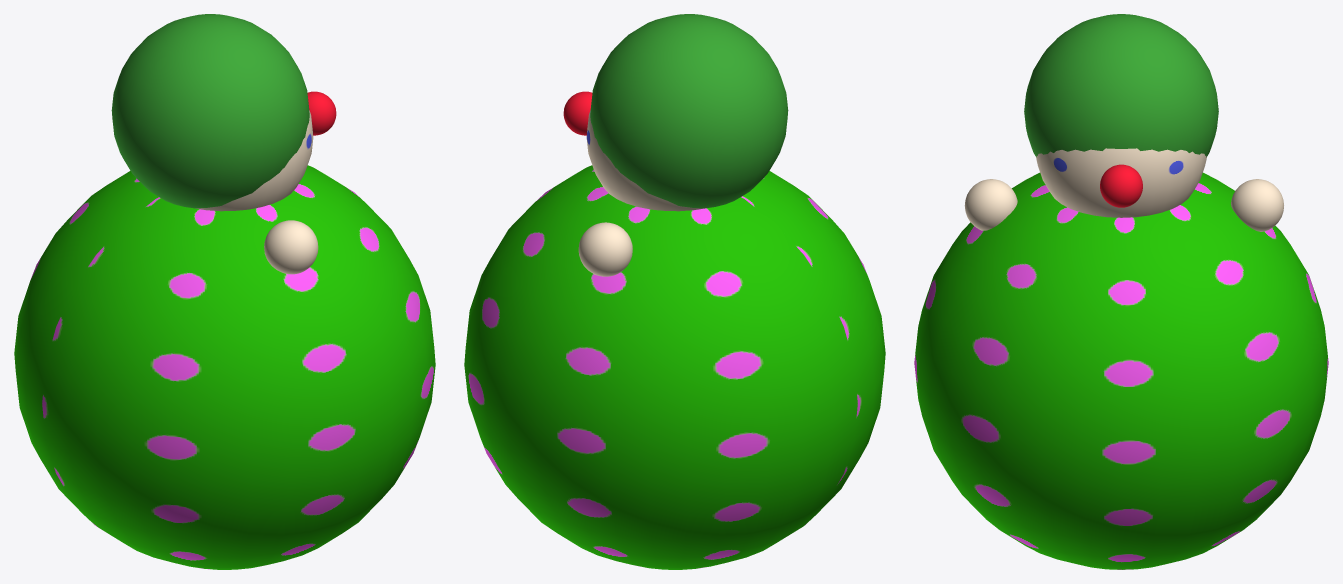
Rendered from clown_greenpinkdot.gltf.
3 views of the same model, side by side, from view 1: azimuth 30°, elevation 25°; view 2: azimuth 150°, elevation 25°; view 3: azimuth 270°, elevation 25° (orthographic).
Parts seen in each view (by area): view 1: Clown; view 2: Clown; view 3: Clown.
Part boxes in pixels (x1,y1,x2,y2): Clown: (14,14,435,569); Clown: (464,14,885,569); Clown: (914,14,1328,569).
Bounding box in the file's own units: 2 × 2.77 × 2.
1 material, 1 textured.
